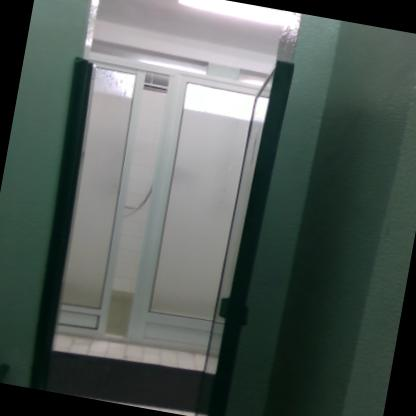open: (9, 35, 349, 415)
